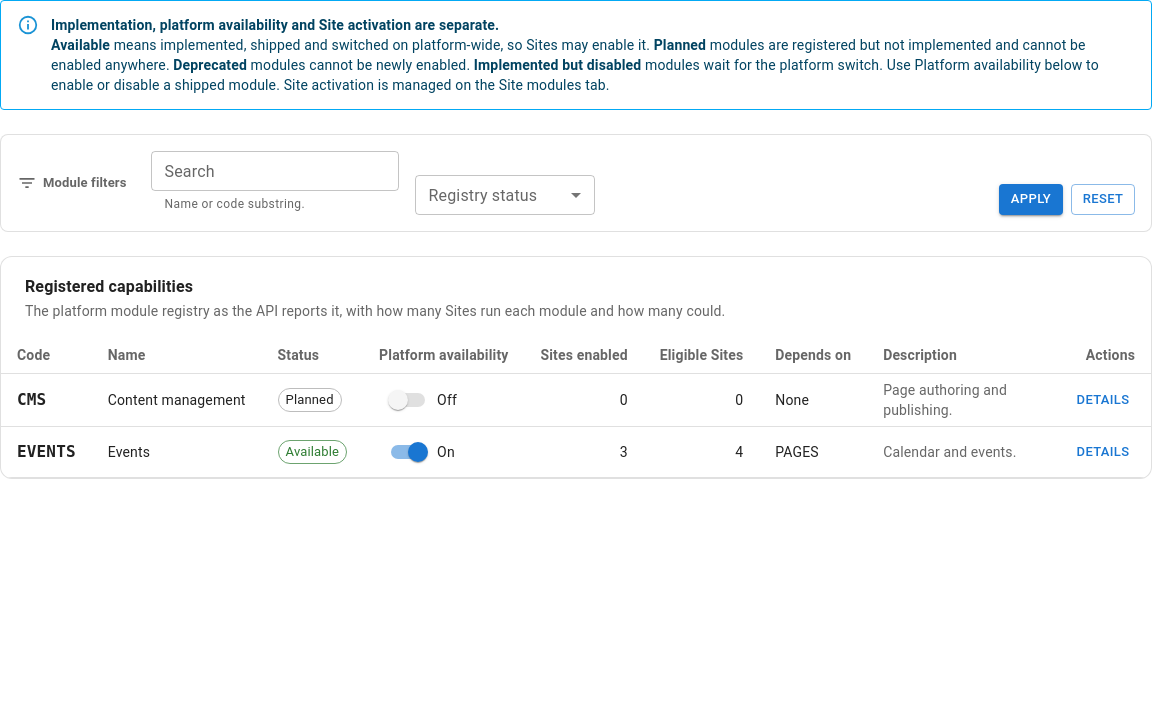
ModuleRegistry › keeps the switch on and displays a failed disable without reporting success
Click the checkbox named "Platform availability for EVENTS": (418, 452) [408,442,428,462]
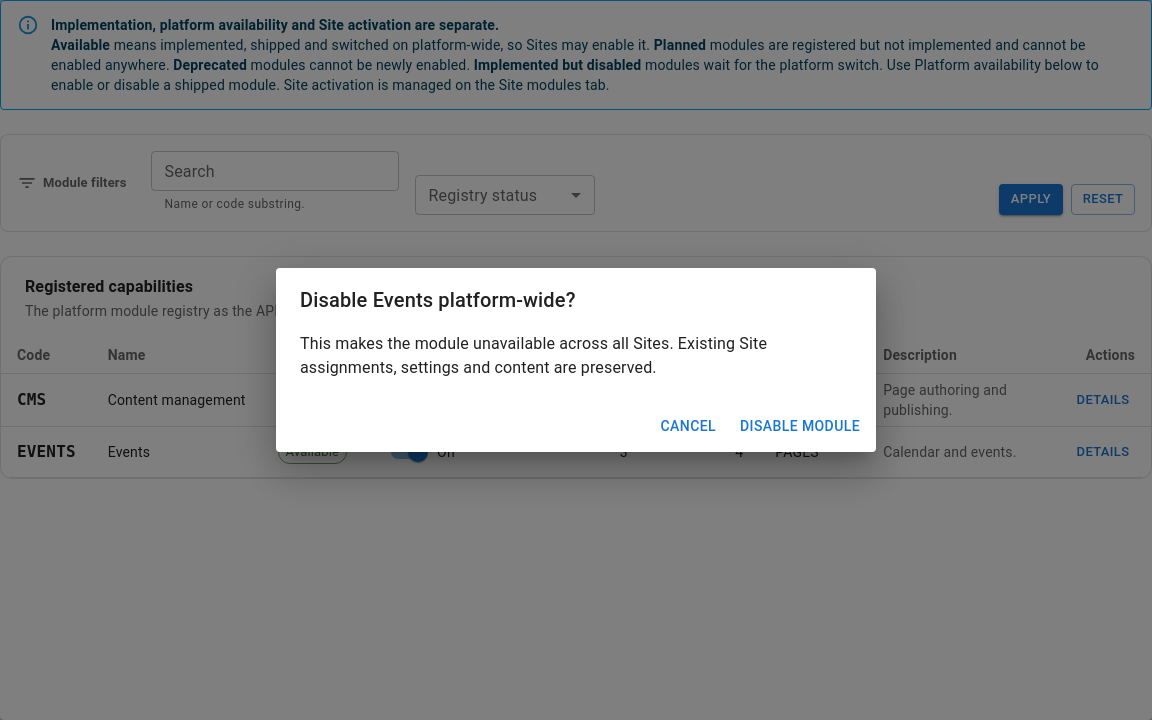
Click the button "Disable module": (800, 426) [732,408,868,444]
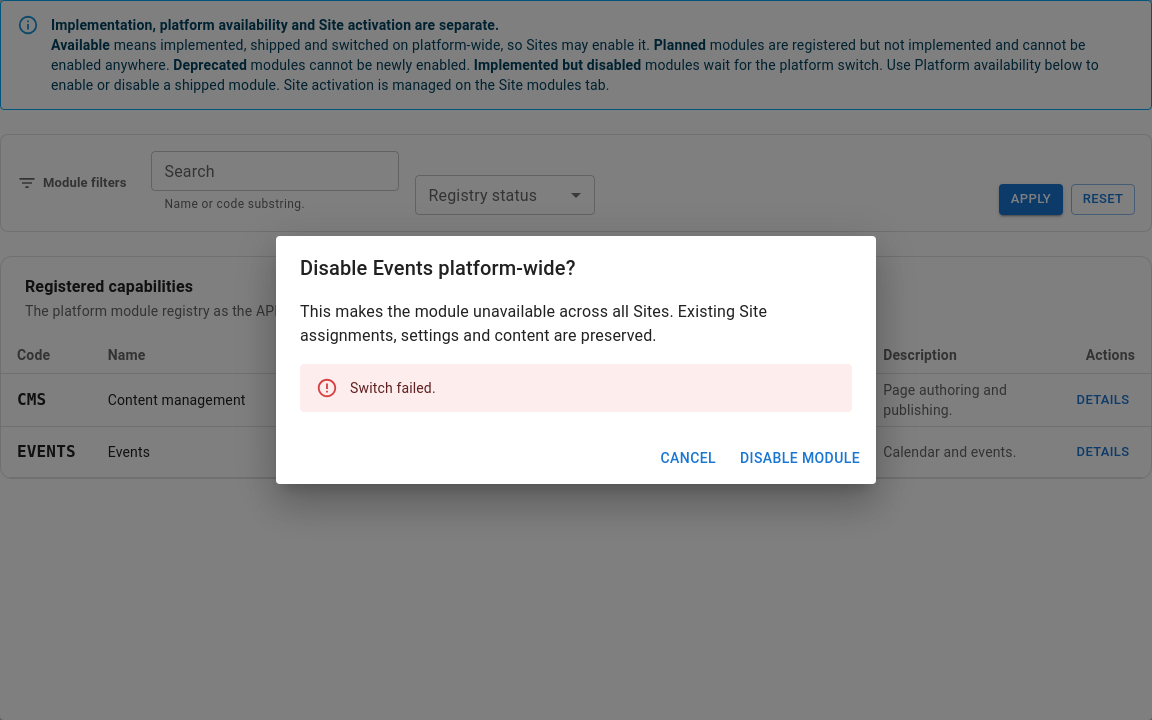
expect the text "Switch failed." is shown: met, box [350,380,436,396]
